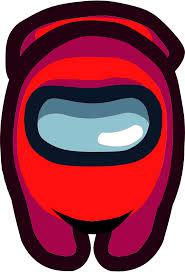amongus: (5, 2, 183, 265)
